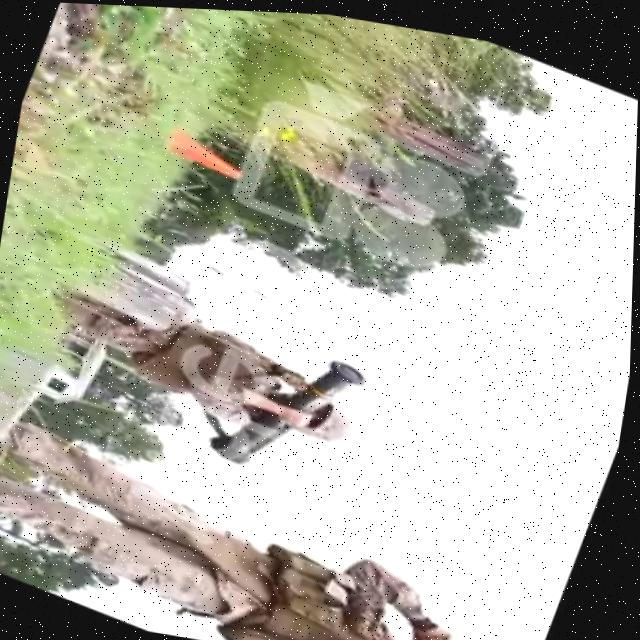rocket: (198, 313, 375, 497)
